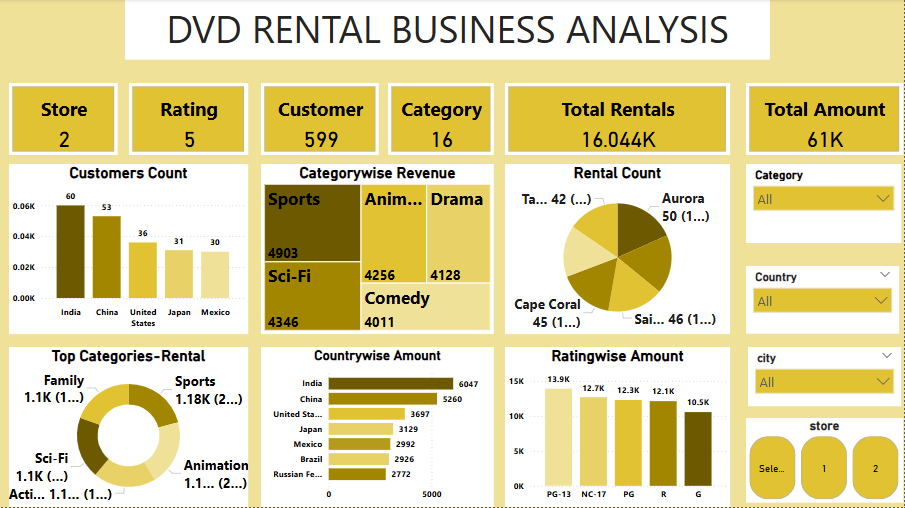

Layout of this report page (visuals, bound fields, positions):
{"tool":"powerbi","page":{"name":"Dashboard","canvas":[1280,720],"ordinal":4},"visuals":[{"type":"clusteredColumnChart","title":" Customers Count","fields":{"Category":["DVDCustomer_details.country"],"Y":["Count(DVDCustomer_details.customer_id)"]},"box":[12.8,233.9,338.7,240.9],"z":0},{"type":"treemap","title":"Categorywise Revenue","fields":{"Group":["DVDFilm_details.category"],"Values":["Sum(DVDFilm_details.amount)"]},"box":[369.9,233.9,330.2,240.9],"z":1000},{"type":"pieChart","title":"Rental Count","fields":{"Category":["DVDCustomer_details.city"],"Y":["CountNonNull(DVDCustomer_details.rental_id)"]},"box":[715.7,233.9,318.9,240.9],"z":2000},{"type":"donutChart","title":"Top Categories-Rental","fields":{"Category":["DVDFilm_details.category"],"Y":["CountNonNull(DVDFilm_details.rental_id)"]},"box":[12.8,493.2,338.7,226.8],"z":3000},{"type":"barChart","title":"Countrywise Amount","fields":{"Category":["DVDCustomer_details.country"],"Y":["Sum(DVDFilm_details.amount)"]},"box":[369.9,493.2,330.2,226.8],"z":4000},{"type":"advancedSlicerVisual","title":"store","fields":{"Values":["DVDCustomer_details.store_id"]},"box":[1057.3,593.9,222.5,120.5],"z":5000},{"type":"slicer","fields":{"Values":["DVDCustomer_details.country"]},"box":[1057.3,378.4,216.9,96.4],"z":6000},{"type":"slicer","fields":{"Values":["DVDCustomer_details.city"]},"box":[1060.2,493.2,216.9,83.6],"z":7000},{"type":"slicer","fields":{"Values":["DVDFilm_details.category"]},"box":[1057.3,233.9,219.7,112],"z":8000},{"type":"textbox","box":[177.2,0,914.2,86.5],"z":9000},{"type":"columnChart","title":"Ratingwise Amount","fields":{"Category":["DVDFilm_details.rating"],"Y":["Sum(DVDFilm_details.amount)"]},"box":[715.7,493.2,318.9,226.8],"z":10000},{"type":"cardVisual","fields":{"Data":["Sum(DVDFilm_details.amount)"]},"box":[1057.3,119.1,222.5,102],"z":11000},{"type":"cardVisual","fields":{"Data":["Count(DVDFilm_details.category)"]},"box":[549.9,119.1,150.2,102],"z":12000},{"type":"cardVisual","fields":{"Data":["Count(DVDCustomer_details.customer_name)"]},"box":[369.9,119.1,167.2,102],"z":13000},{"type":"cardVisual","fields":{"Data":["Count(DVDFilm_details.rental_id)"]},"box":[715.7,119.1,318.9,102],"z":14000},{"type":"cardVisual","fields":{"Data":["Count(DVDCustomer_details.store_id)"]},"box":[12.8,119.1,154.5,102],"z":15000},{"type":"cardVisual","fields":{"Data":["Count(DVDFilm_details.rating)"]},"box":[182.8,119.1,168.7,102],"z":16000}]}

Visuals, with their boxes in screenshot pixels (x1, y1, x2, y2), scaled from the page's 1280x720 canvas onto the 905x508 screenshot:
" Customers Count" clusteredColumnChart: box(9, 165, 249, 335)
"Categorywise Revenue" treemap: box(262, 165, 495, 335)
"Rental Count" pieChart: box(506, 165, 731, 335)
"Top Categories-Rental" donutChart: box(9, 348, 249, 507)
"Countrywise Amount" barChart: box(262, 348, 495, 507)
"store" advancedSlicerVisual: box(748, 419, 904, 504)
slicer - DVDCustomer_details.country: box(748, 267, 901, 335)
slicer - DVDCustomer_details.city: box(750, 348, 903, 407)
slicer - DVDFilm_details.category: box(748, 165, 903, 244)
textbox: box(125, 0, 772, 61)
"Ratingwise Amount" columnChart: box(506, 348, 731, 507)
cardVisual - Sum(DVDFilm_details.amount): box(748, 84, 904, 156)
cardVisual - Count(DVDFilm_details.category): box(389, 84, 495, 156)
cardVisual - Count(DVDCustomer_details.customer_name): box(262, 84, 380, 156)
cardVisual - Count(DVDFilm_details.rental_id): box(506, 84, 731, 156)
cardVisual - Count(DVDCustomer_details.store_id): box(9, 84, 118, 156)
cardVisual - Count(DVDFilm_details.rating): box(129, 84, 249, 156)
